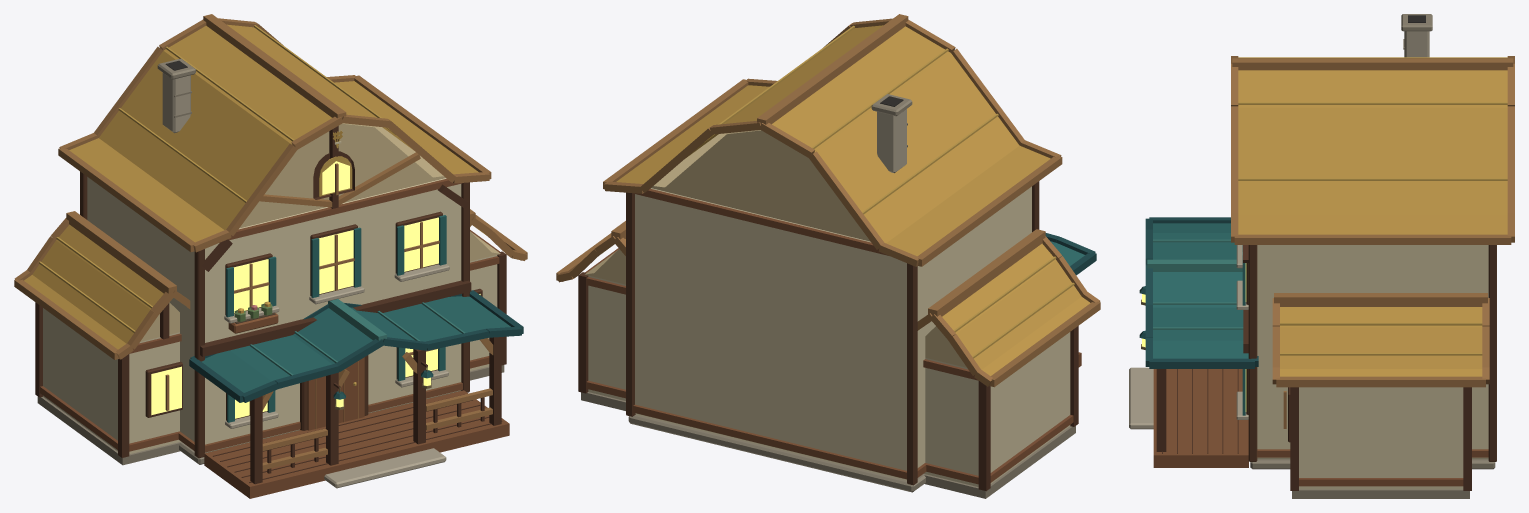
Rendered from lodge.glb.
3 views of the same model, side by side, from view 1: azimuth 30°, elevation 25°; view 2: azimuth 150°, elevation 25°; view 3: azimuth 270°, elevation 25° (orthographic). The views are drawn at different scales.
Visible parts, largest first — view 1: lodge; view 2: lodge; view 3: lodge.
Boxes of the visible parts, bbox=[...] form: lodge: bbox=[14, 14, 527, 498]; lodge: bbox=[556, 14, 1100, 498]; lodge: bbox=[1129, 14, 1514, 498].
Size of the model in its own units: 11.54 by 8.77 by 8.92.
